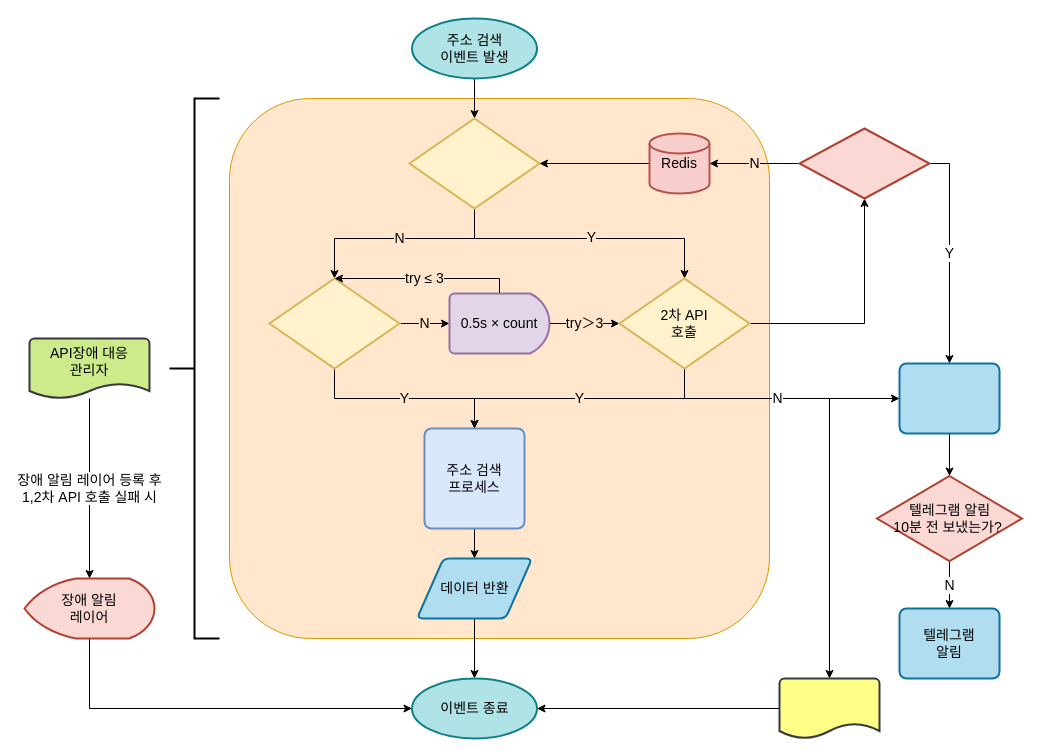
Image size: 1040x756. Some labels were removed from this diagram. The shapes that lost their labels are listed below. From the top down, each one's centre as x and y in pixels, then its label:
At (x=474, y=163): "1차 API 장애 확인".
At (x=864, y=163): "3분 이내 10회 발생".
At (x=334, y=323): "1차 API 호출".
At (x=949, y=398): "장애 대응".
At (x=829, y=708): "브라우저, 장애 발생 안내".
